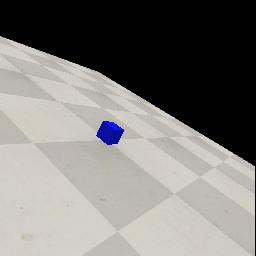box: (96, 121, 124, 145)
